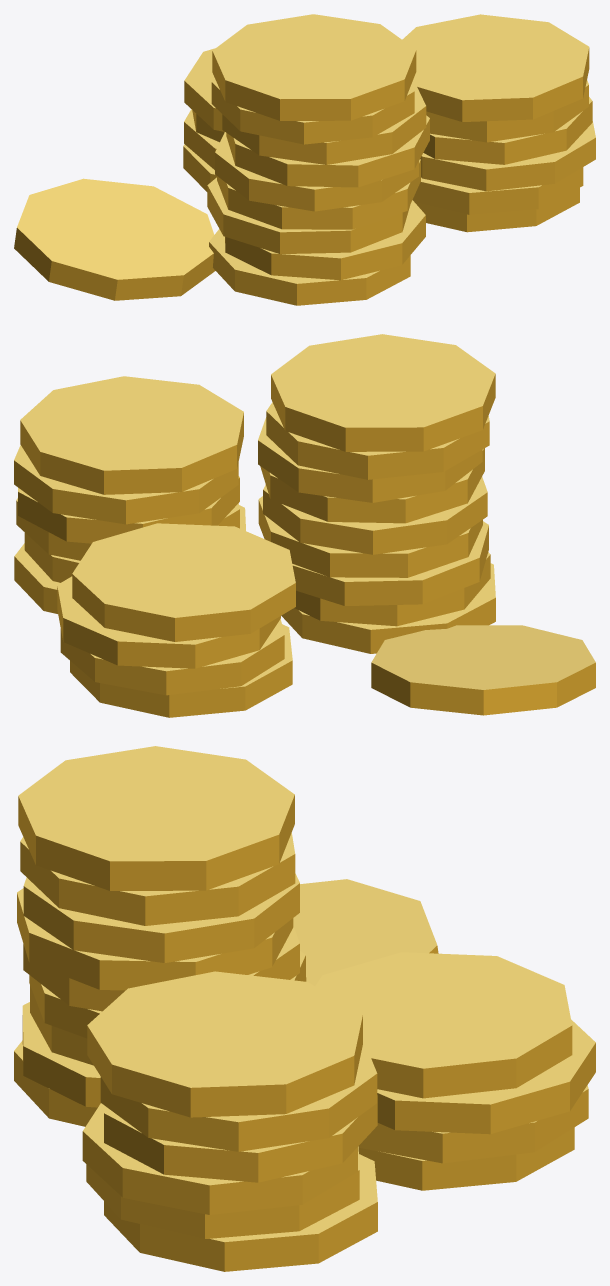
The model's file is Res_CoinStack.fbx.
The picture shows the model from 3 angles, top to bottom: view 1: azimuth 30°, elevation 25°; view 2: azimuth 150°, elevation 25°; view 3: azimuth 270°, elevation 25°; orthographic projection. The views are drawn at different scales.
Visible parts, largest first — view 1: Res_CoinStack; view 2: Res_CoinStack; view 3: Res_CoinStack.
Boxes of the visible parts, x1,y1,x2,y2 form: Res_CoinStack: [14, 14, 595, 305]; Res_CoinStack: [14, 334, 595, 717]; Res_CoinStack: [14, 746, 595, 1271].
Bounding box in the file's own units: 0.351 × 0.1338 × 0.2486.
